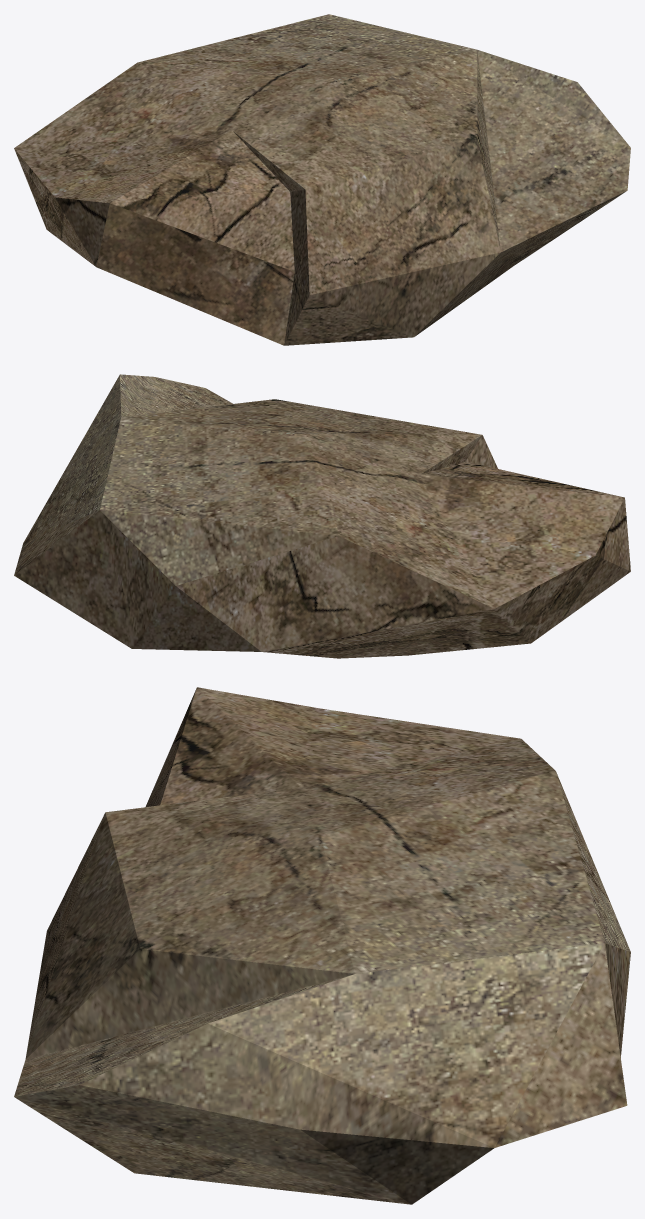
Rendered from rockgranite01c.fbx.
3 views of the same model, one above another, from view 1: azimuth 30°, elevation 25°; view 2: azimuth 150°, elevation 25°; view 3: azimuth 270°, elevation 25° (orthographic). The views are drawn at different scales.
Parts seen in each view (by area): view 1: studiomesh_6; view 2: studiomesh_6; view 3: studiomesh_6.
Boxes of the visible parts, left/top/right/bottom form: studiomesh_6: left=14, top=14, right=630, bottom=345; studiomesh_6: left=14, top=374, right=630, bottom=658; studiomesh_6: left=14, top=687, right=630, bottom=1204.
Bounding box in the file's own units: 218 × 78.43 × 158.
